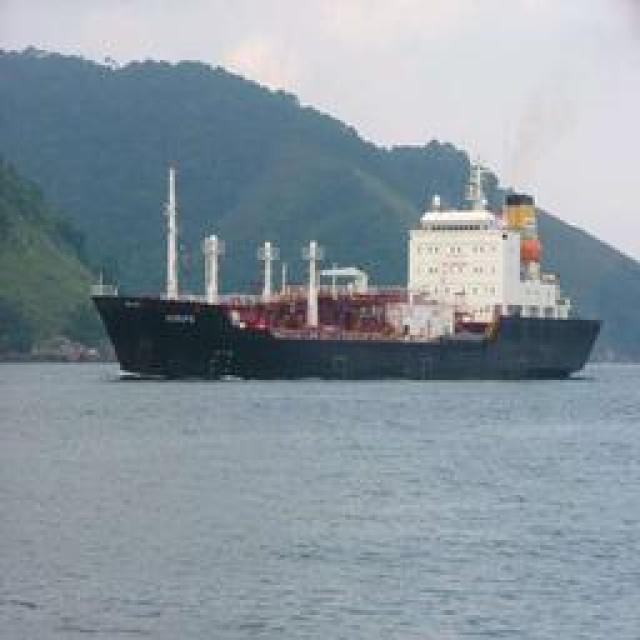CIV_Ship: (98, 161, 610, 384)
